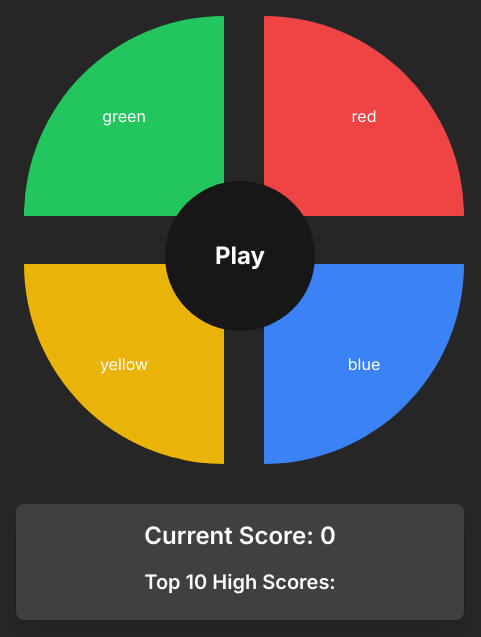
Scenario: SimonGame › starts the game when Play button is clicked
Click the button "Play". click: (240, 256)
box: [165, 181, 315, 331]
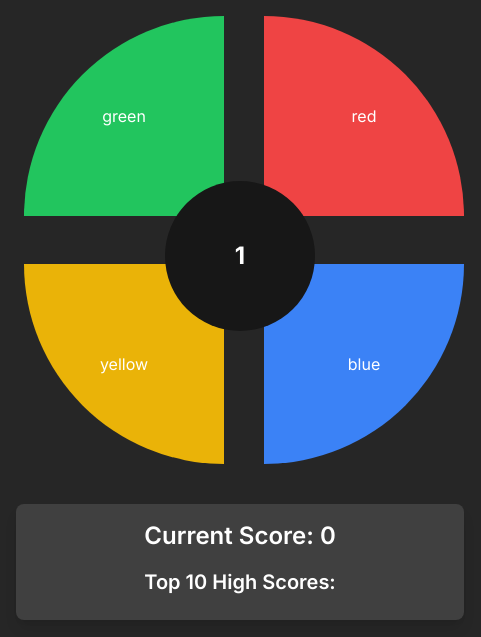
Now the button "Play" is gone
